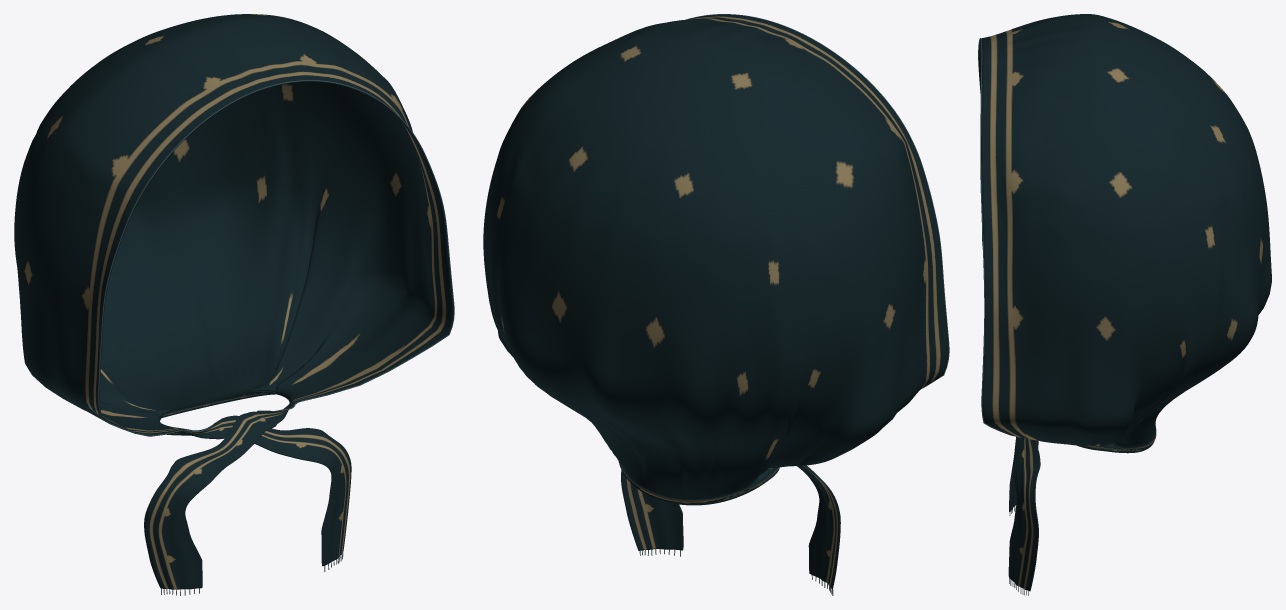
File: Masculine-taper-jersey-pashmina249-headgear.glb
The picture shows the model from 3 angles, left to right: view 1: azimuth 30°, elevation 25°; view 2: azimuth 150°, elevation 25°; view 3: azimuth 270°, elevation 25°; orthographic projection. The views are drawn at different scales.
Visible parts, largest first — view 1: 226 headgear / Headwear / continuous woven pashmina239, 226 headgear / Headwear / face edge239; view 2: 226 headgear / Headwear / continuous woven pashmina239, 226 headgear / Headwear / face edge239; view 3: 226 headgear / Headwear / continuous woven pashmina239, 226 headgear / Headwear / face edge239.
Part boxes in pixels (x1,y1,x2,y2): 226 headgear / Headwear / continuous woven pashmina239: [14, 14, 453, 589]; 226 headgear / Headwear / face edge239: [98, 80, 454, 436]; 226 headgear / Headwear / continuous woven pashmina239: [483, 14, 948, 589]; 226 headgear / Headwear / face edge239: [686, 14, 949, 388]; 226 headgear / Headwear / continuous woven pashmina239: [978, 14, 1271, 591]; 226 headgear / Headwear / face edge239: [978, 38, 1014, 436].
Size of the model in its own units: 1.03 by 1.41 by 0.7255.
3 materials, 1 textured.
